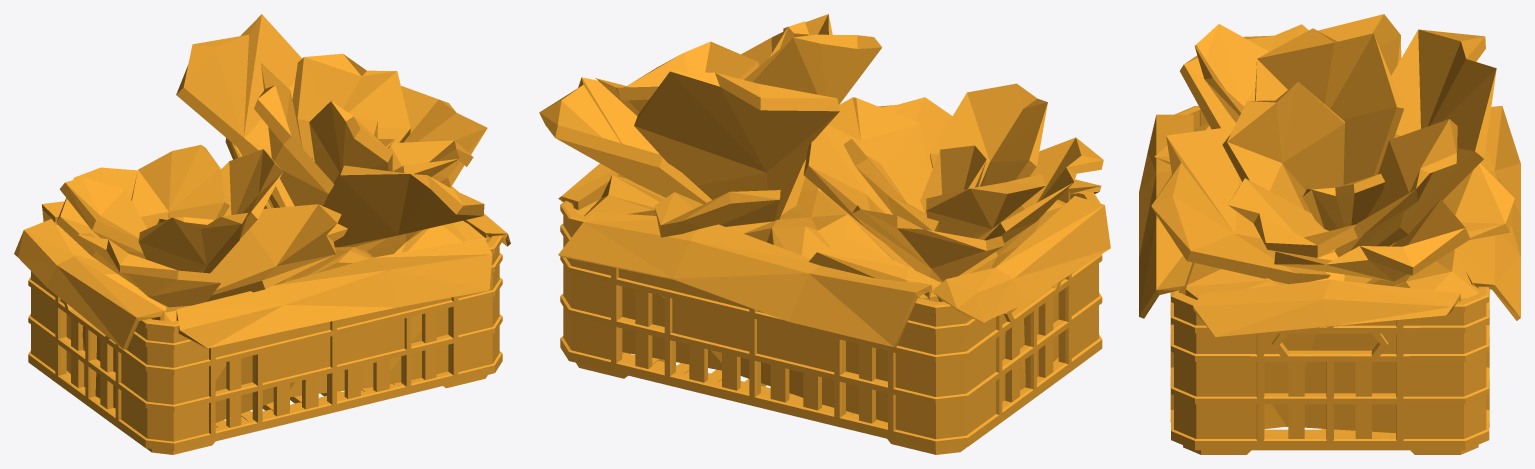
The model's file is SM_Crate_Plastic_Small_Paper_Salad.fbx.
3 renders of one model, left to right at view 1: azimuth 30°, elevation 25°; view 2: azimuth 150°, elevation 25°; view 3: azimuth 270°, elevation 25°, orthographic. The views are drawn at different scales.
Visible parts, largest first — view 1: crate-plastic-small-paper-salad; view 2: crate-plastic-small-paper-salad; view 3: crate-plastic-small-paper-salad.
Part boxes in pixels (x1,y1,x2,y2): crate-plastic-small-paper-salad: (14,14,510,454); crate-plastic-small-paper-salad: (539,14,1110,454); crate-plastic-small-paper-salad: (1139,14,1520,454).
Size of the model in its own units: 0.7164 by 0.4723 by 0.4887.
